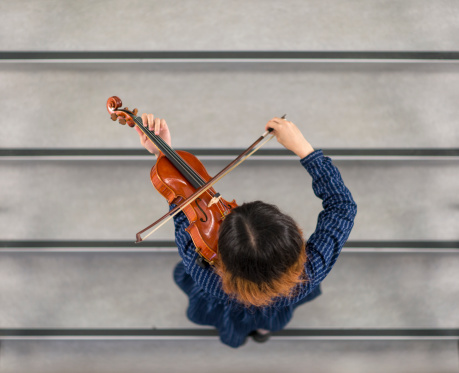em pe: (128, 113, 366, 352)
